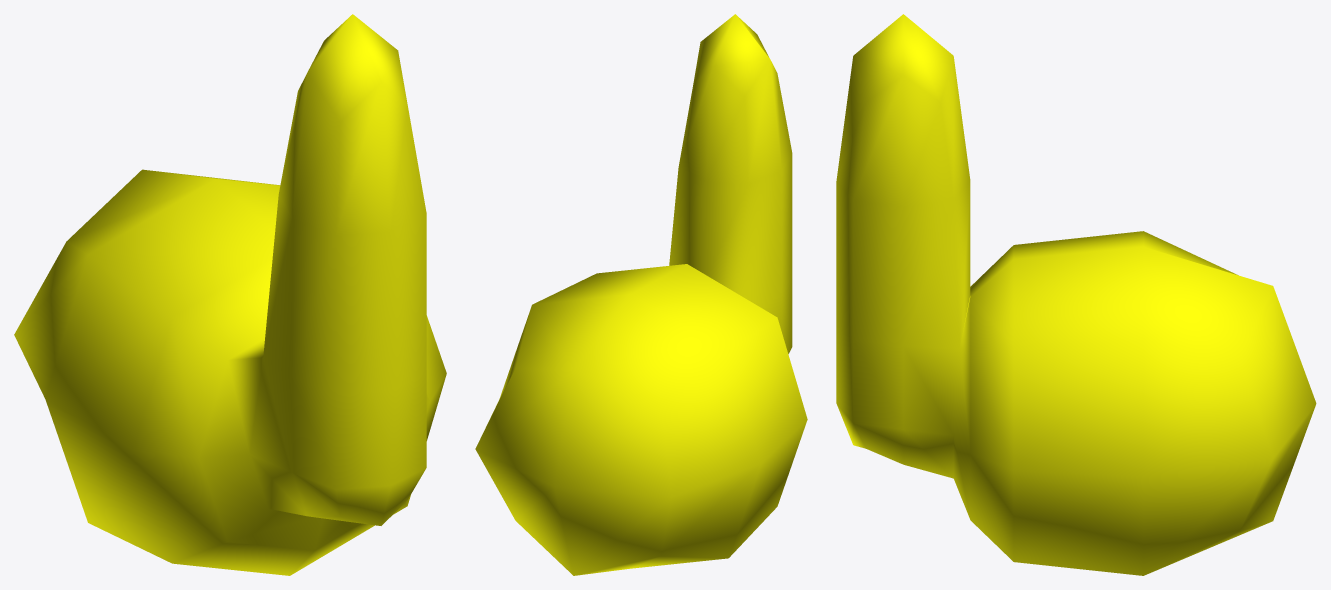
The model's file is poignée.fbx.
3 renders of one model, left to right at view 1: azimuth 30°, elevation 25°; view 2: azimuth 150°, elevation 25°; view 3: azimuth 270°, elevation 25°, orthographic. The views are drawn at different scales.
Visible parts, largest first — view 1: pCube176; view 2: pCube176; view 3: pCube176.
Boxes of the visible parts, x1,y1,x2,y2 form: pCube176: (14, 14, 446, 575); pCube176: (475, 14, 807, 575); pCube176: (836, 14, 1316, 575).
Size of the model in its own units: 0.3099 by 0.5399 by 0.4299.
